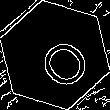O_NW: (21, 22, 89, 88)
